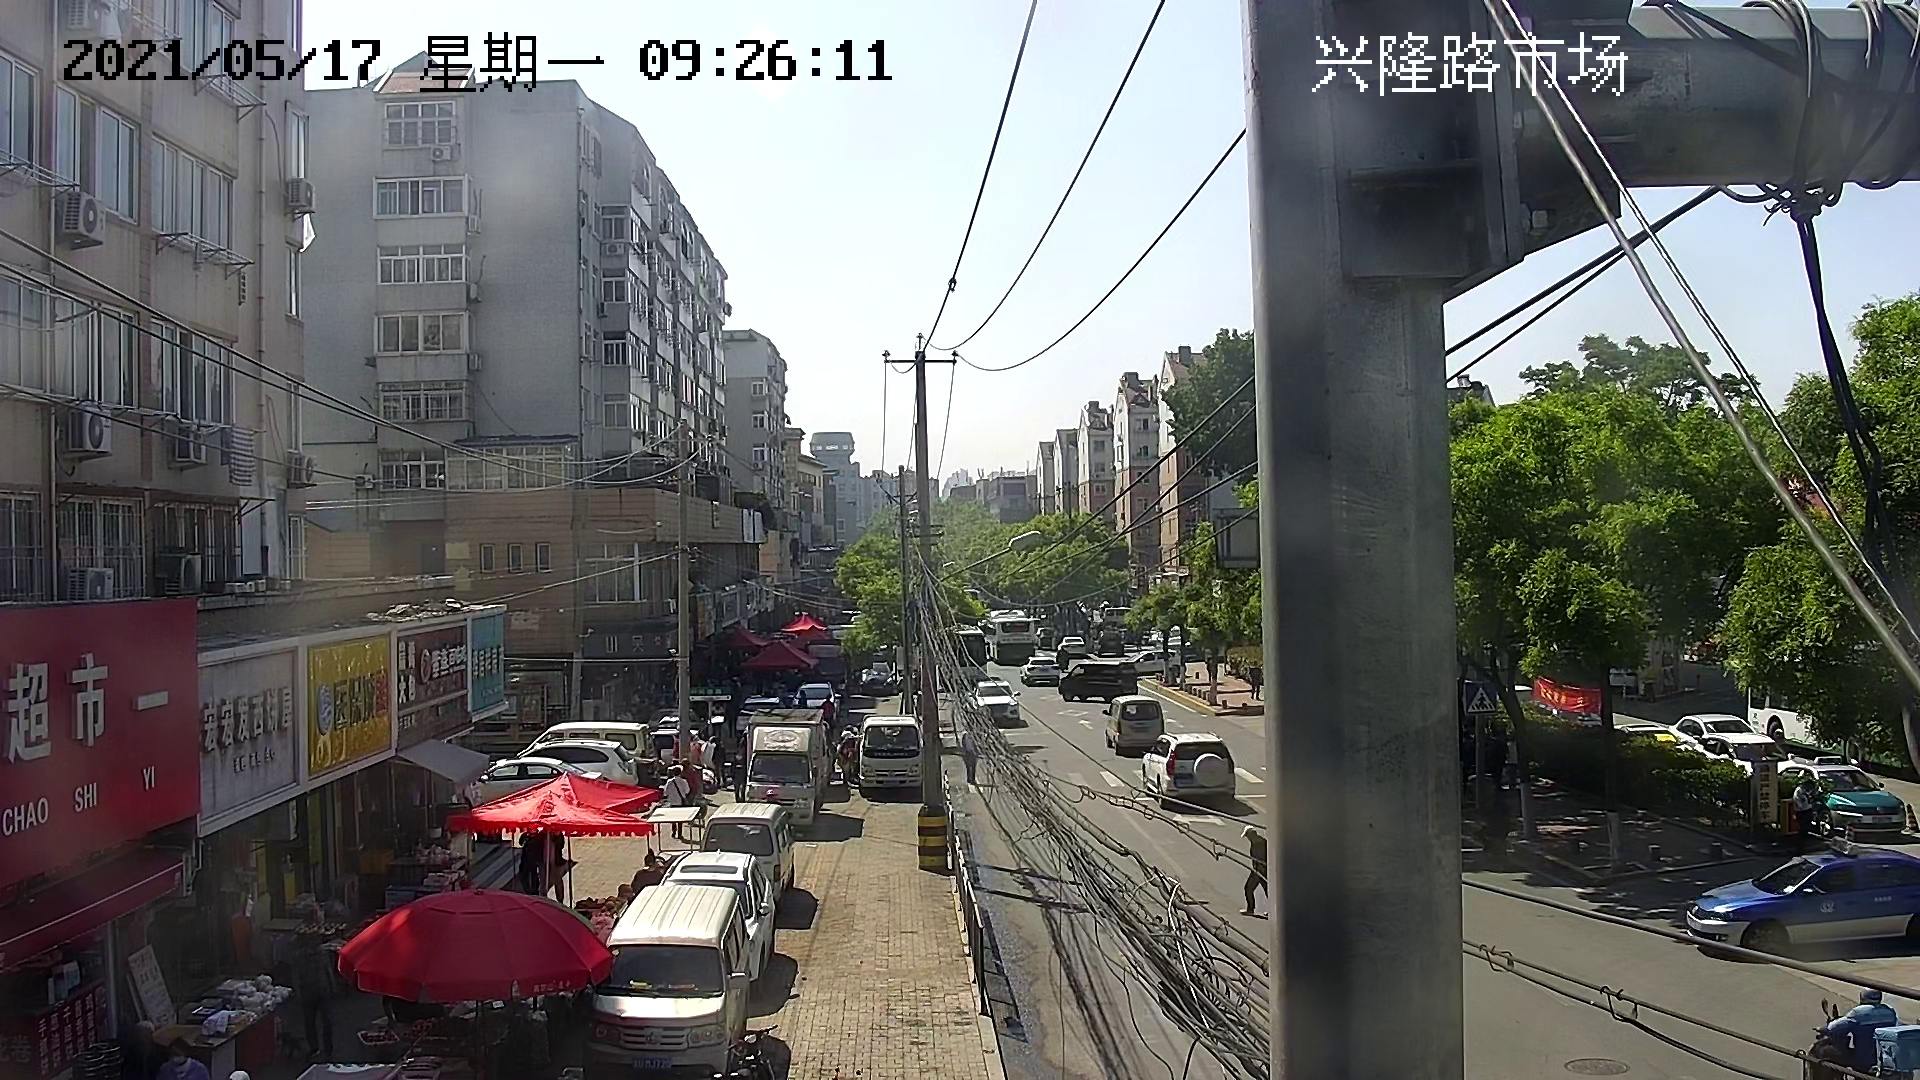table: (644, 804, 703, 862)
umbrella: (338, 887, 615, 998), (443, 789, 655, 840), (483, 767, 665, 814), (740, 640, 818, 671), (723, 622, 770, 647), (781, 613, 828, 636)
